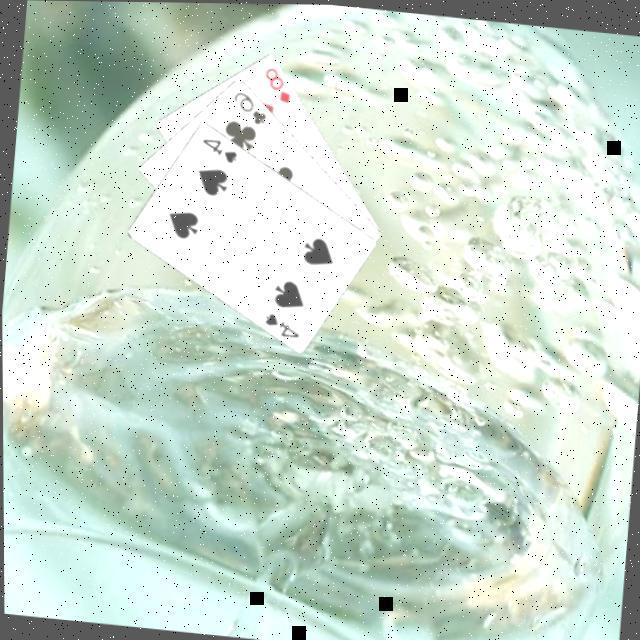4S: (196, 134, 240, 168), (258, 308, 302, 342)
6C: (227, 88, 270, 130)
8D: (257, 63, 294, 107)
